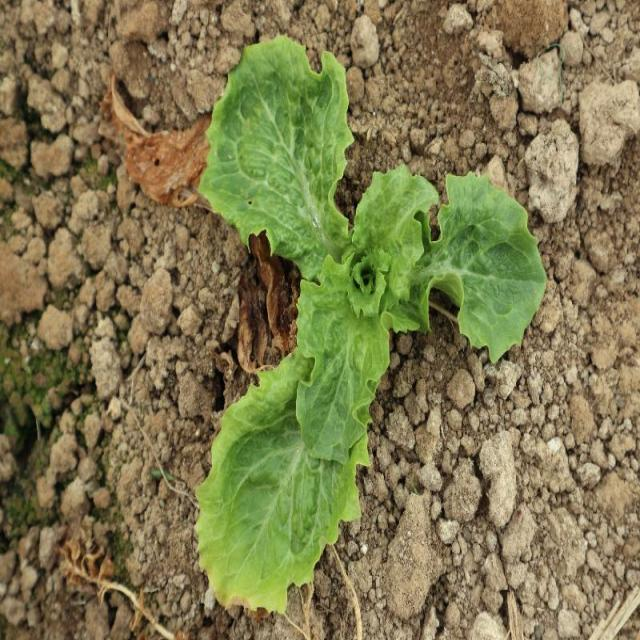crop: (195, 34, 549, 616)
